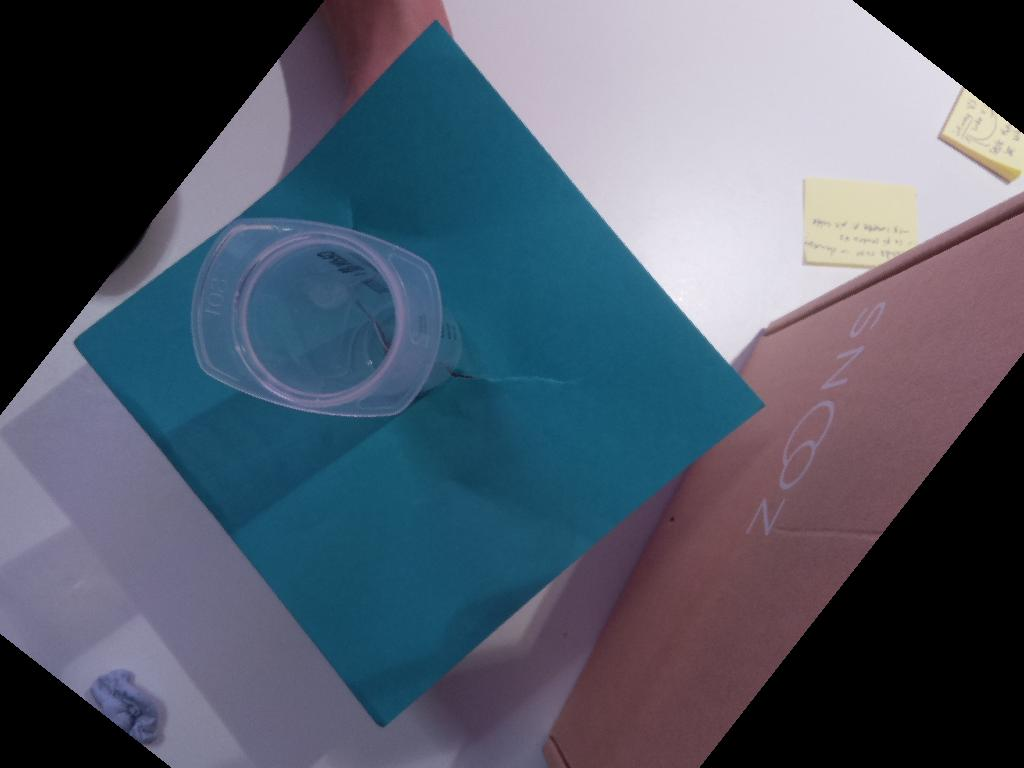clean: (189, 216, 444, 418)
